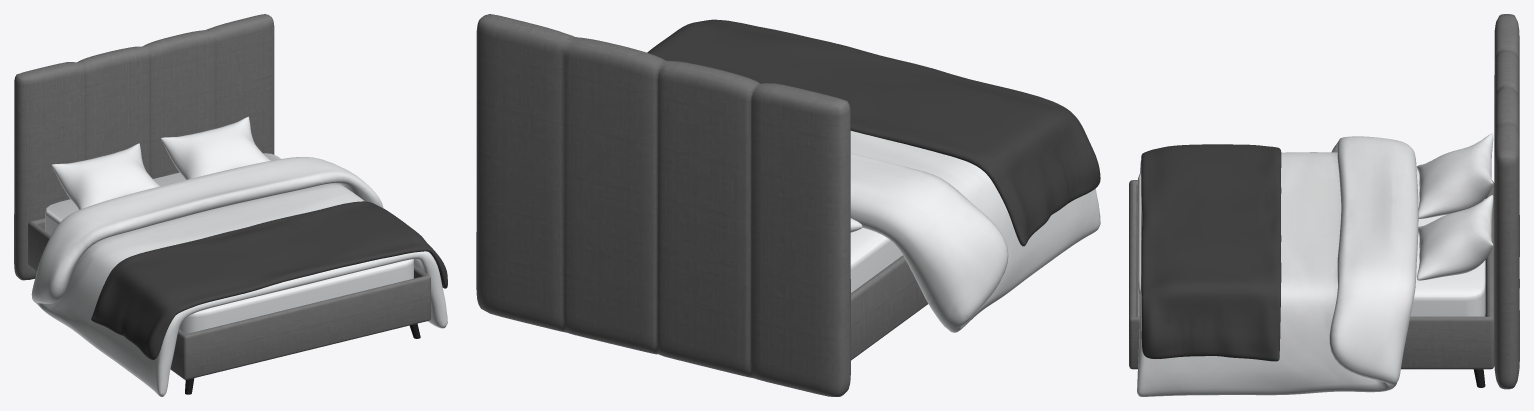
Rendered from bed_upholstered.glb.
3 renders of one model, left to right at view 1: azimuth 30°, elevation 25°; view 2: azimuth 150°, elevation 25°; view 3: azimuth 270°, elevation 25°, orthographic. The views are drawn at different scales.
Parts seen in each view (by area): view 1: Object_6, Object_4; view 2: Object_4, Object_6; view 3: Object_6, Object_4.
Part boxes in pixels (box(x1,y1,x2,y2)): Object_6: box(31, 116, 447, 396); Object_4: box(14, 14, 430, 394); Object_4: box(476, 14, 928, 396); Object_6: box(647, 19, 1100, 332); Object_6: box(1137, 133, 1493, 396); Object_4: box(1129, 14, 1519, 389).
Size of the model in its own units: 2.15 by 1.27 by 1.89.
Materials: 2 (2 with a texture image).
